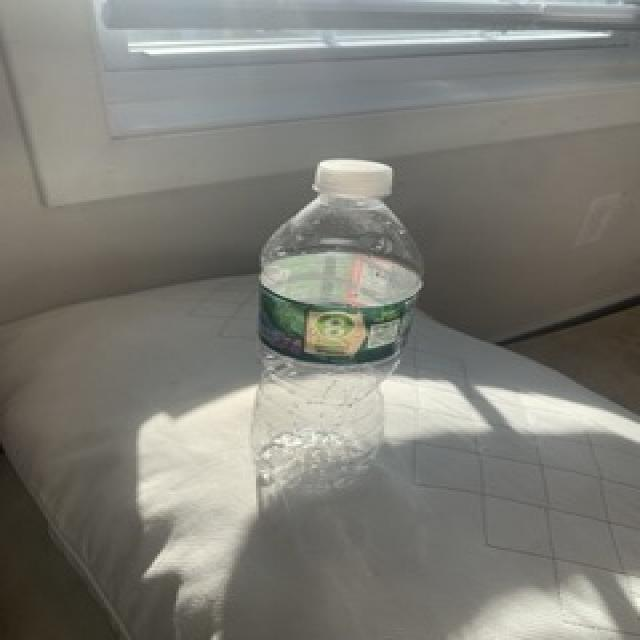water_bottle: (240, 153, 423, 499)
